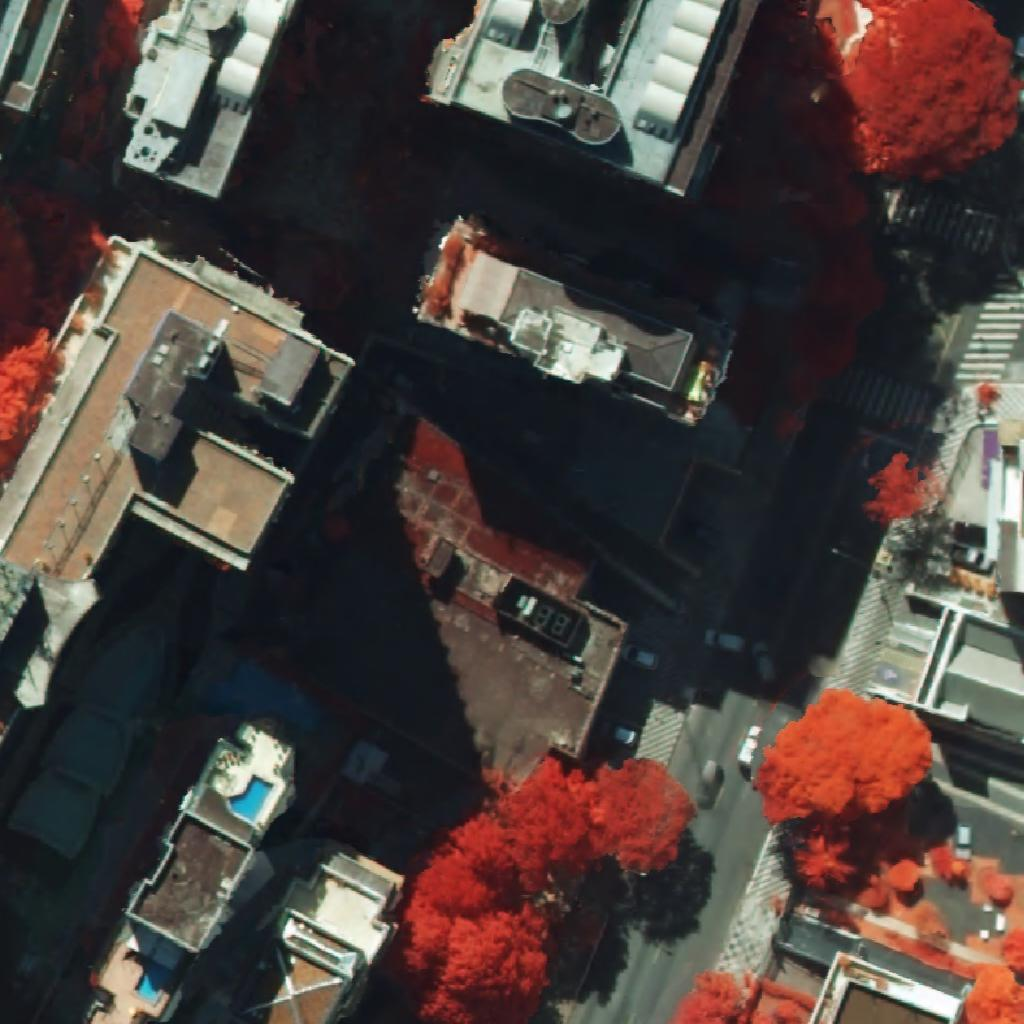pool: (231, 776, 273, 821), (135, 961, 170, 1001)
